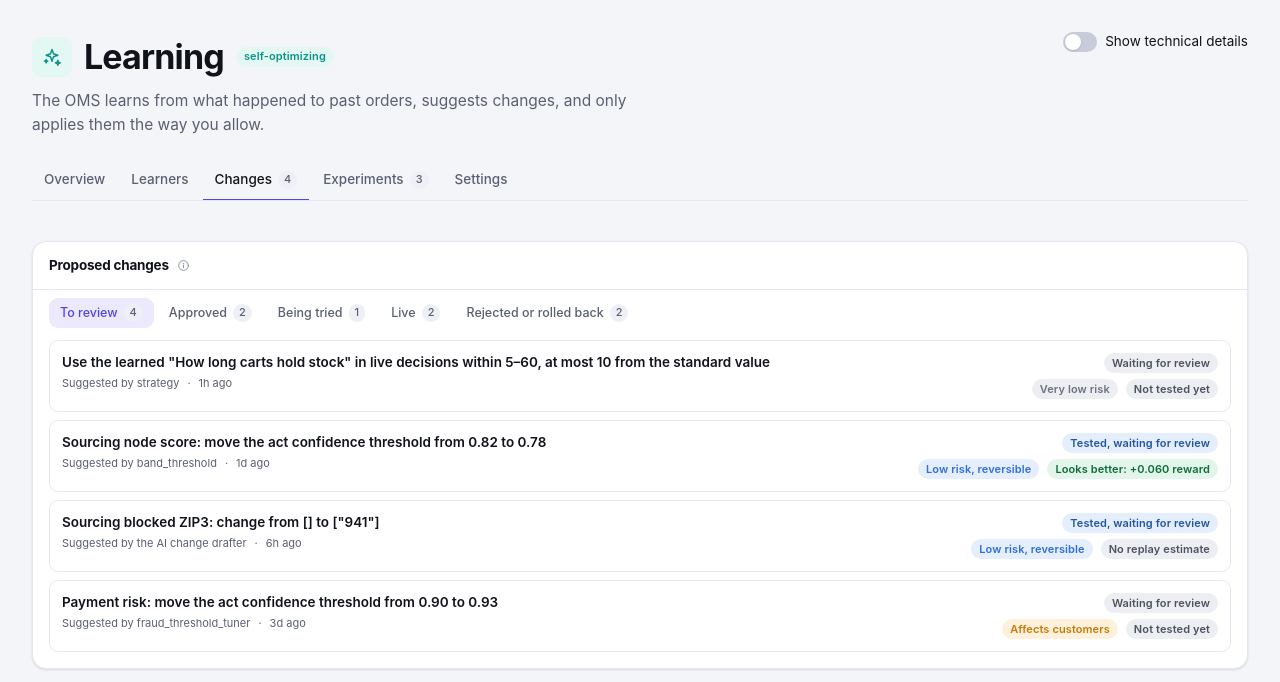
Scenario: Learning Console: north star, guardrails, critic and live-use domains › shows the automatic critic review, the governing learner and the lift in reward, not percent
The image size is (1280, 682).
Click the button with test id "change-prop_demo1": (304, 442) [49,420,1231,492]
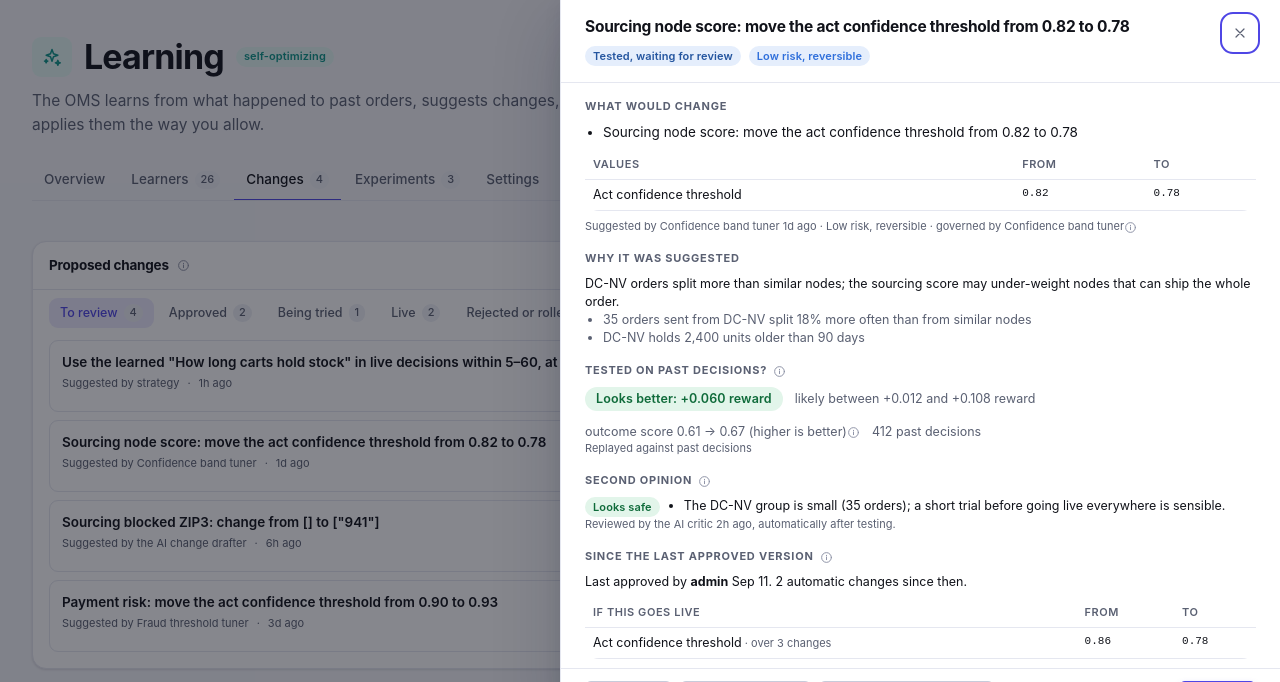
expect the text "Looks better: +0.060 reward" is shown: met, box [585,387,783,411]
expect the text with test id "critic-source" reads "Reviewed by the AI critic 2h ago, automatically after testing.": met, box [585,517,896,531]
expect the element with test id "governing-learner" shows "governed by Confidence band tuner": met, box [927,219,1137,233]
